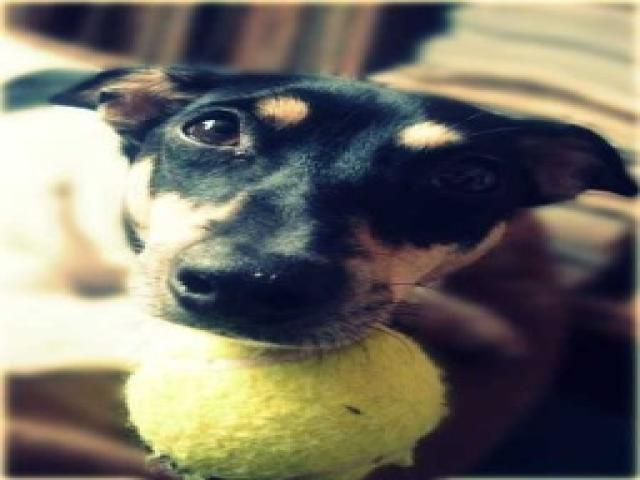tennis-ball: (122, 324, 452, 476)
